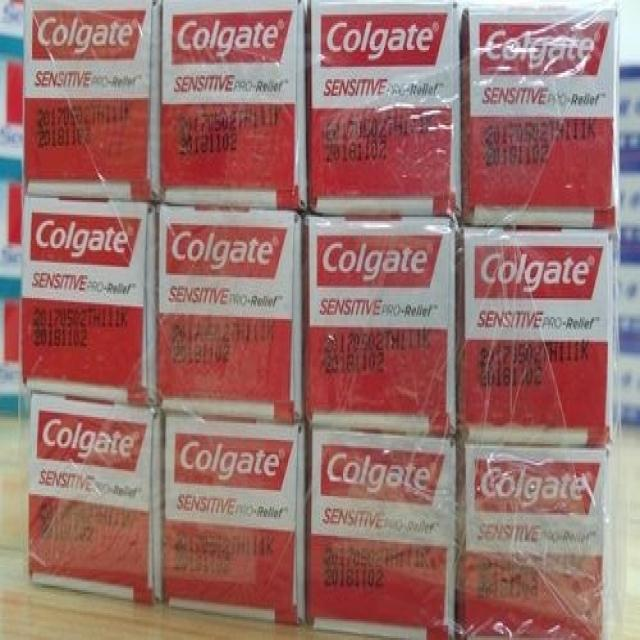box: (461, 6, 619, 228), (305, 215, 456, 437), (458, 229, 614, 442), (308, 1, 461, 218), (157, 203, 301, 423), (307, 426, 456, 637), (160, 0, 307, 212), (163, 410, 306, 625), (458, 441, 609, 638), (29, 392, 163, 606), (21, 197, 157, 403), (24, 0, 161, 200)
